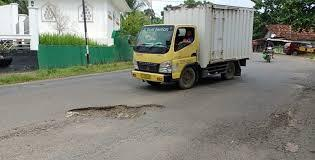Pothole: (246, 103, 301, 156), (57, 97, 168, 121), (280, 63, 315, 101)
